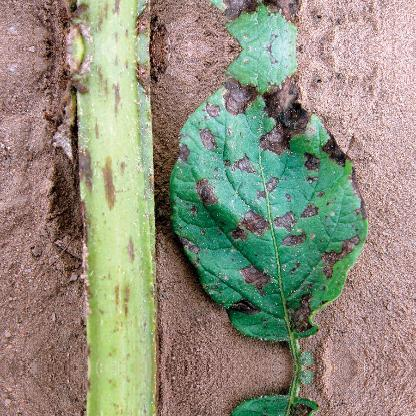Early-Blight: (167, 48, 377, 360)
